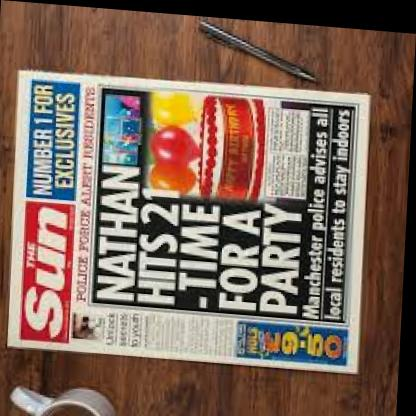Paper: (0, 58, 377, 385)
